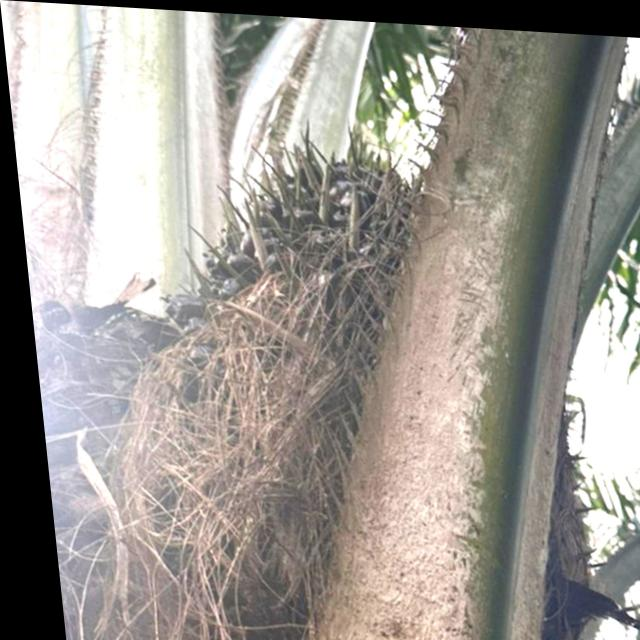almost: (88, 94, 456, 600)
